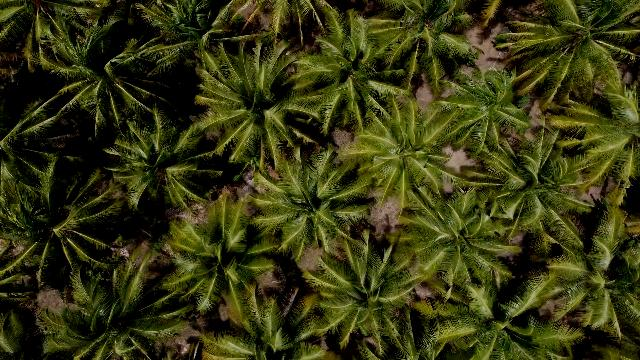trees: (29, 6, 196, 146), (459, 124, 605, 261), (419, 247, 592, 359), (37, 245, 200, 360), (284, 8, 416, 147), (493, 2, 640, 116), (347, 88, 468, 222), (305, 226, 427, 358), (248, 147, 375, 270), (160, 196, 281, 322), (399, 191, 513, 306), (102, 105, 218, 216), (200, 47, 302, 165), (196, 276, 334, 360), (10, 167, 113, 270), (543, 87, 640, 195), (3, 3, 125, 83), (387, 3, 486, 90), (438, 64, 530, 151), (131, 3, 237, 74), (2, 90, 84, 157), (408, 301, 494, 360), (226, 3, 328, 51), (414, 2, 481, 38), (1, 240, 45, 291), (2, 3, 37, 57), (585, 2, 640, 36), (2, 309, 36, 359)
